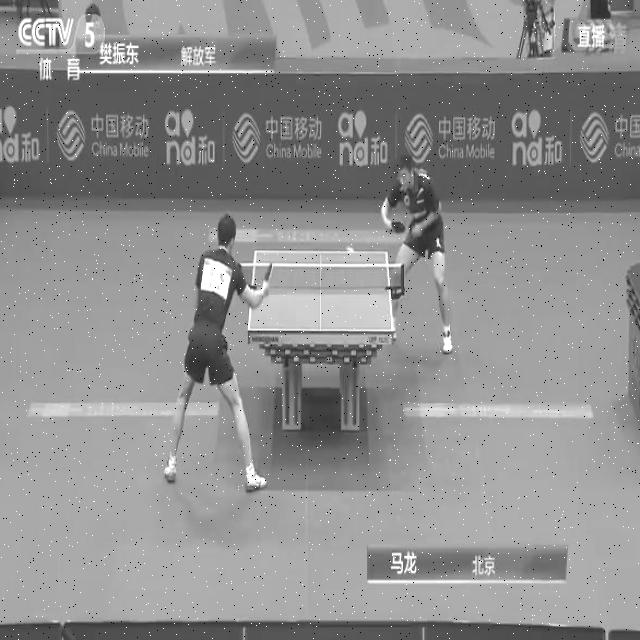ping-pong-ball: (345, 244, 356, 257)
